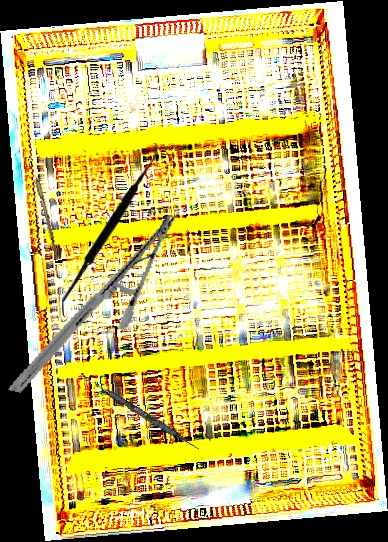Needle Holder: (7, 188, 180, 419)
Spatula Surgical: (59, 143, 161, 317), (77, 372, 203, 452)
Surgical Spoon: (26, 150, 61, 259)
